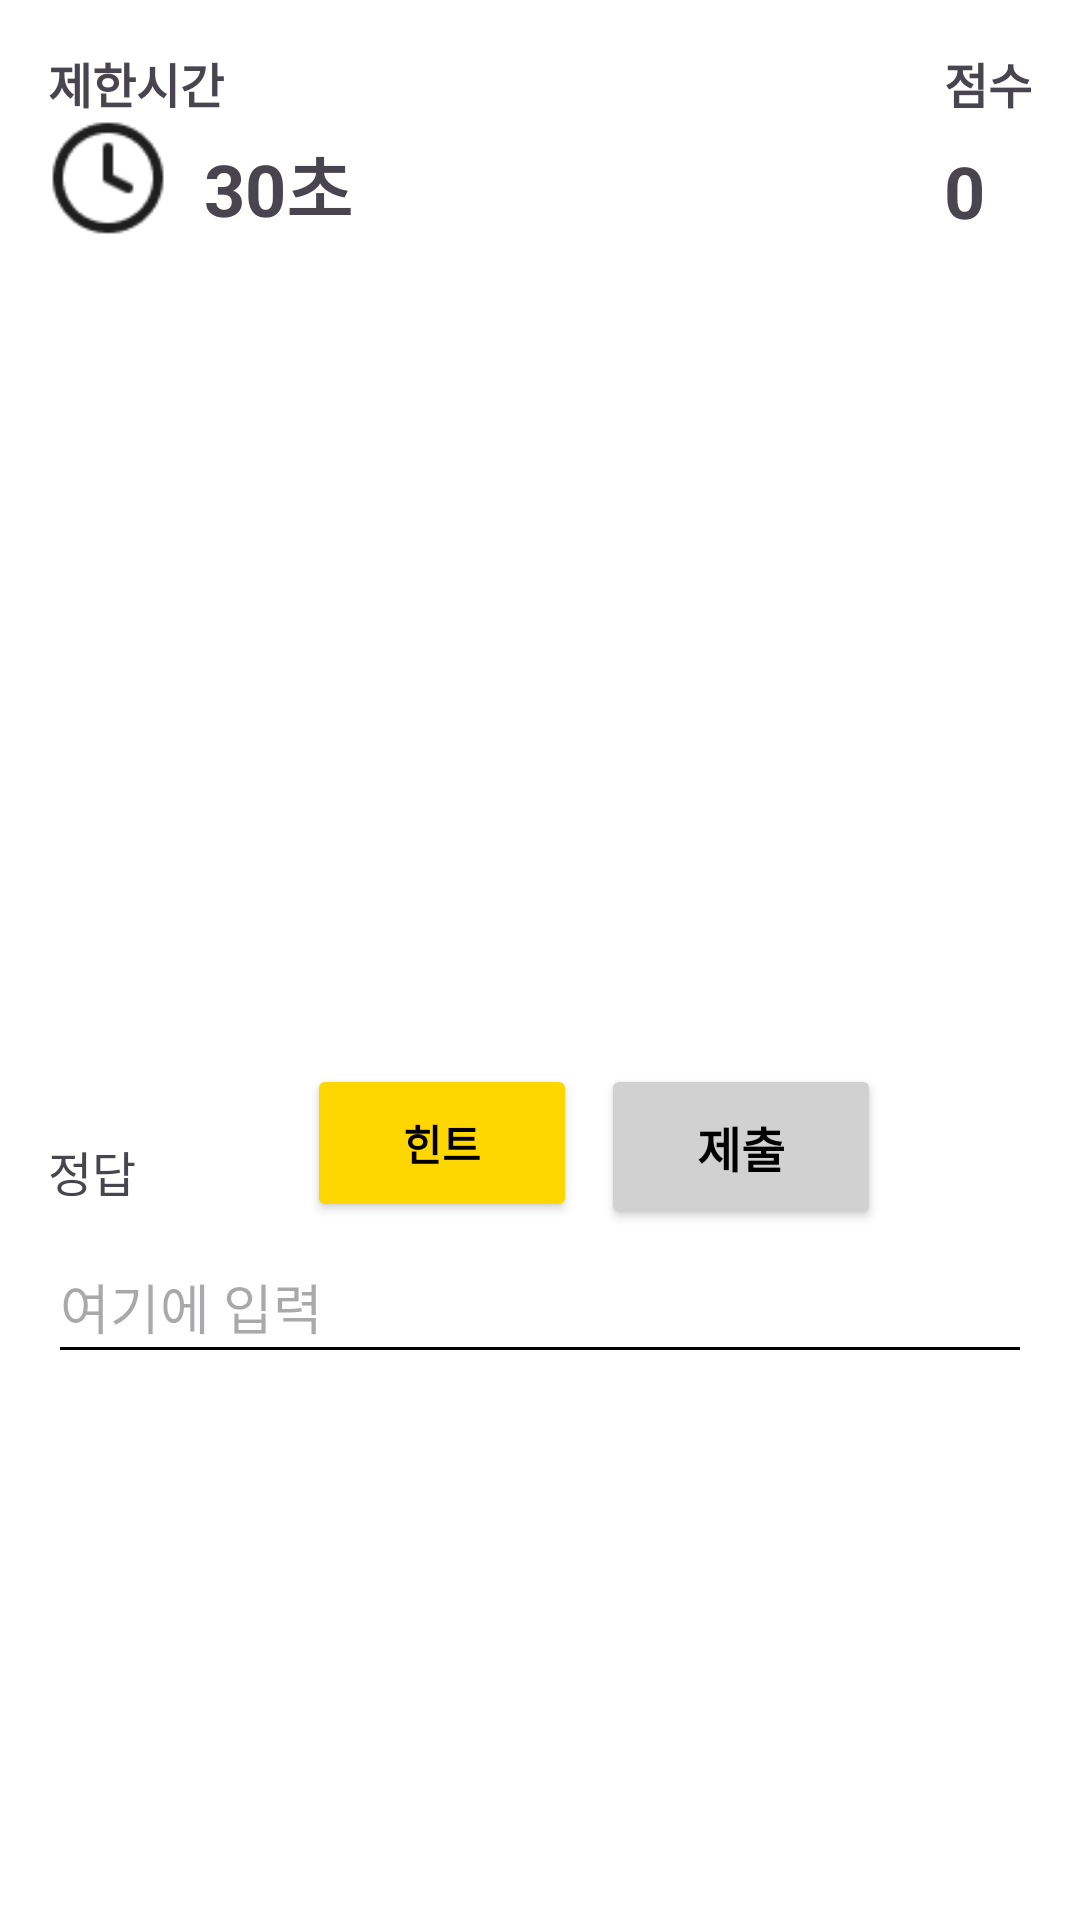

Screen size 1080px×1920px. Icon name, then its center in pixels as (x,y):
타이머 아이콘: (108,178)
